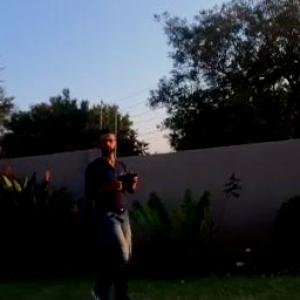follow: (80, 121, 149, 299)
